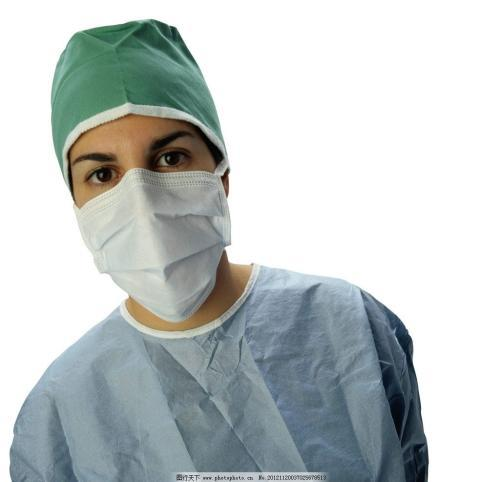mask: (63, 165, 251, 321)
